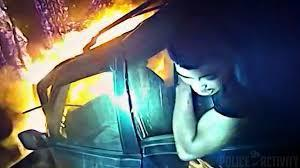fire: (1, 14, 174, 137)
